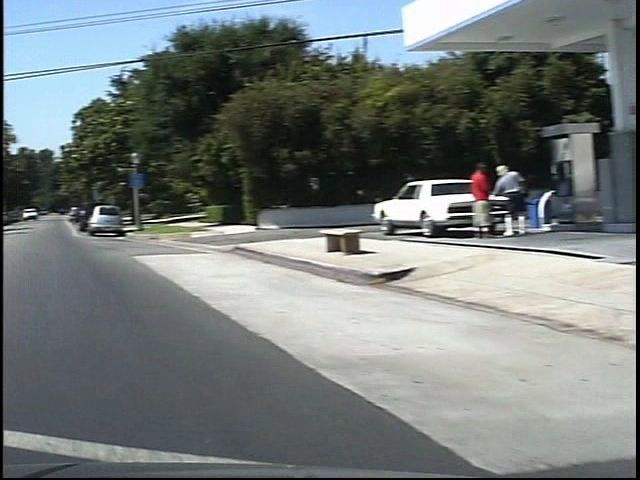person: (475, 161, 517, 242), (448, 157, 479, 242)
